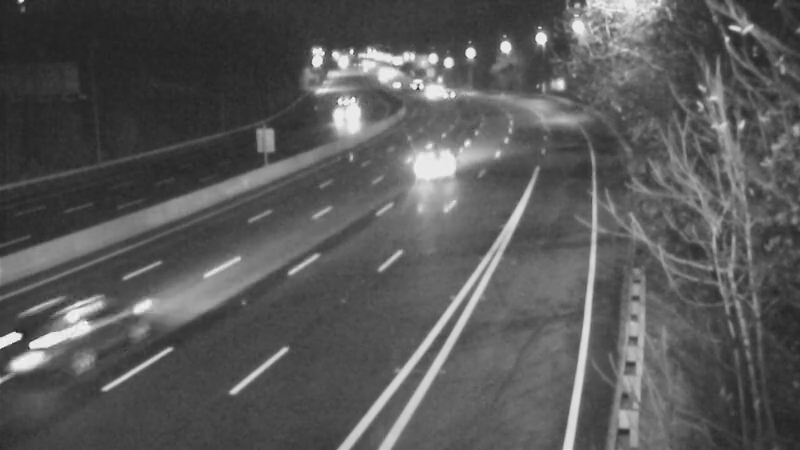vehicle: (24, 284, 134, 394), (399, 129, 479, 209), (372, 65, 422, 115), (411, 65, 461, 115), (422, 73, 472, 123), (319, 91, 369, 141)
